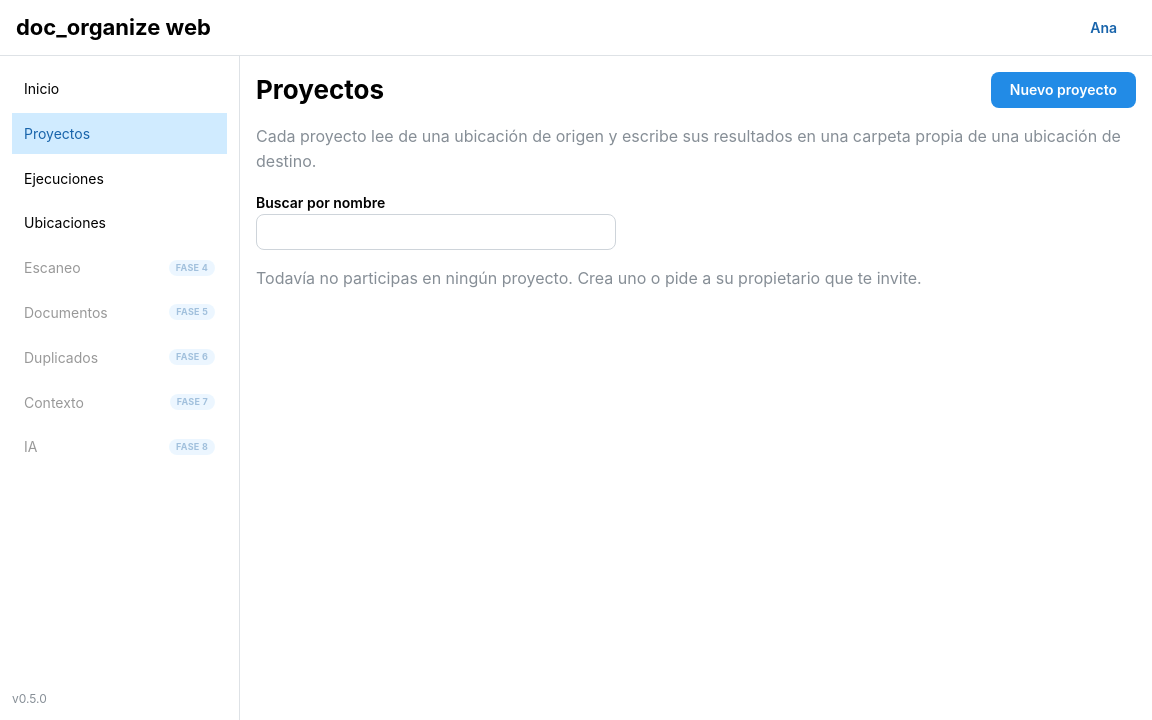
Scenario: ProjectsPage › no deja crear sin carpetas de origen
Click the button "Nuevo proyecto" at (1063, 90), box [991, 72, 1136, 108]
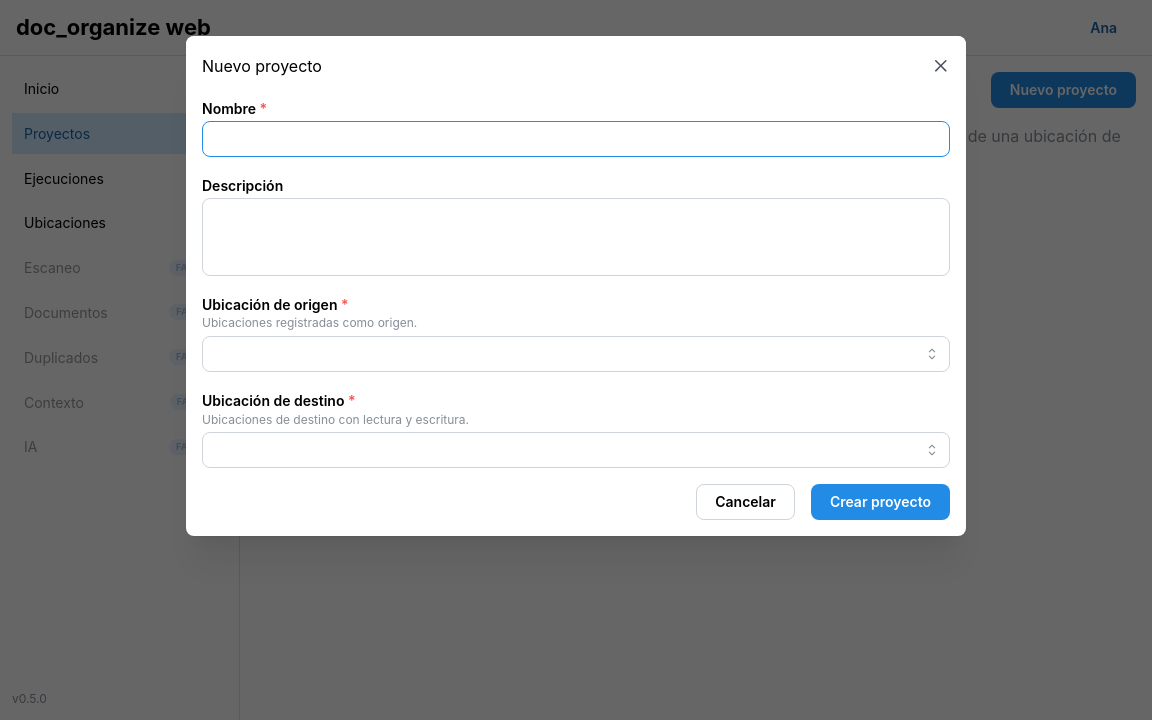
Type "X" into the field labelled "Nombre *" at (576, 139), box [202, 121, 950, 157]
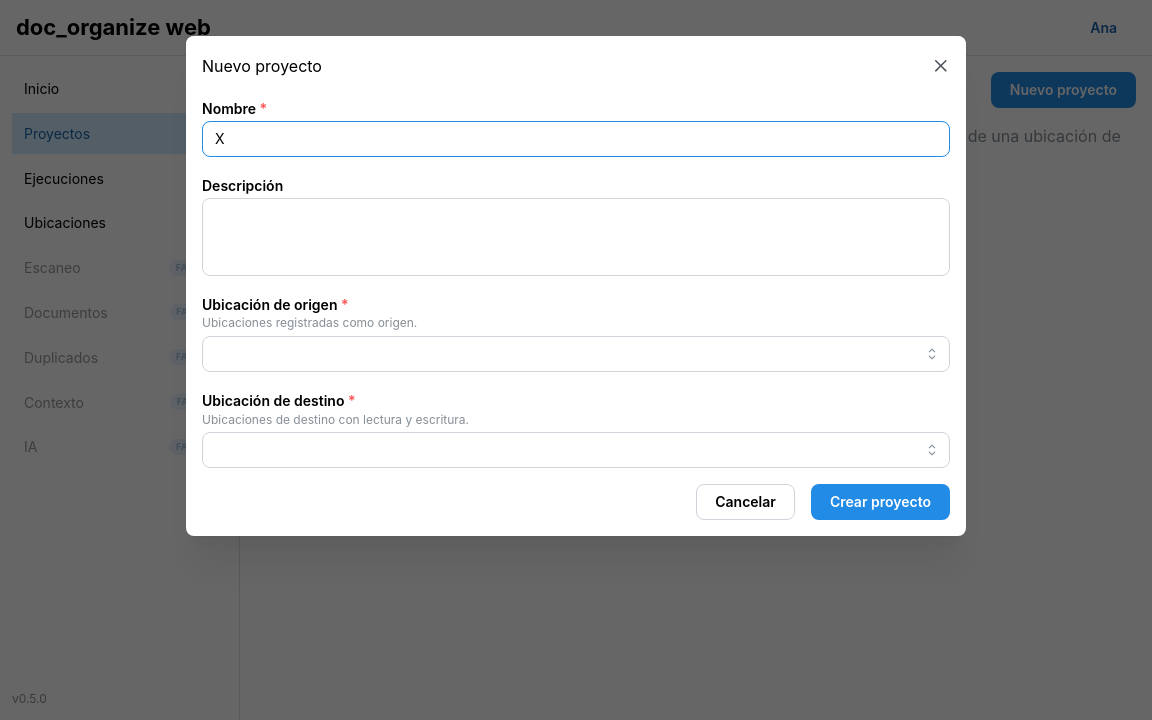
Click the dropdown labelled "Ubicación de origen *" at (576, 354), box [202, 336, 950, 372]
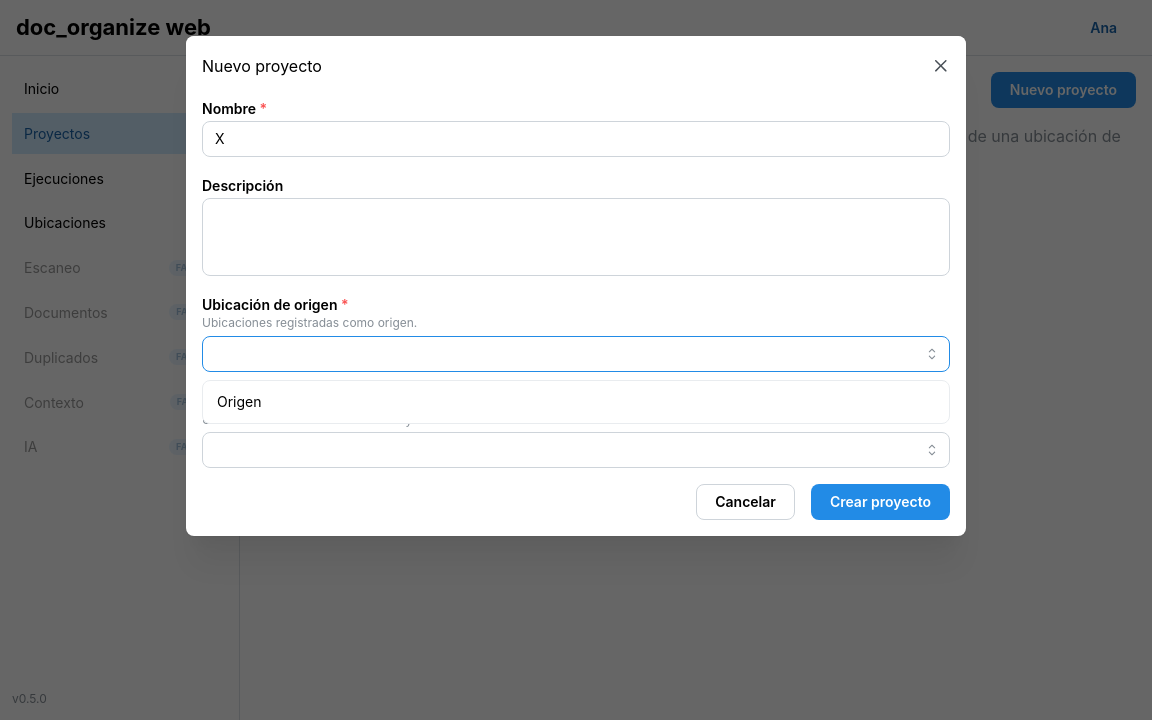
Click the option "Origen" at (239, 401), box [217, 393, 262, 410]
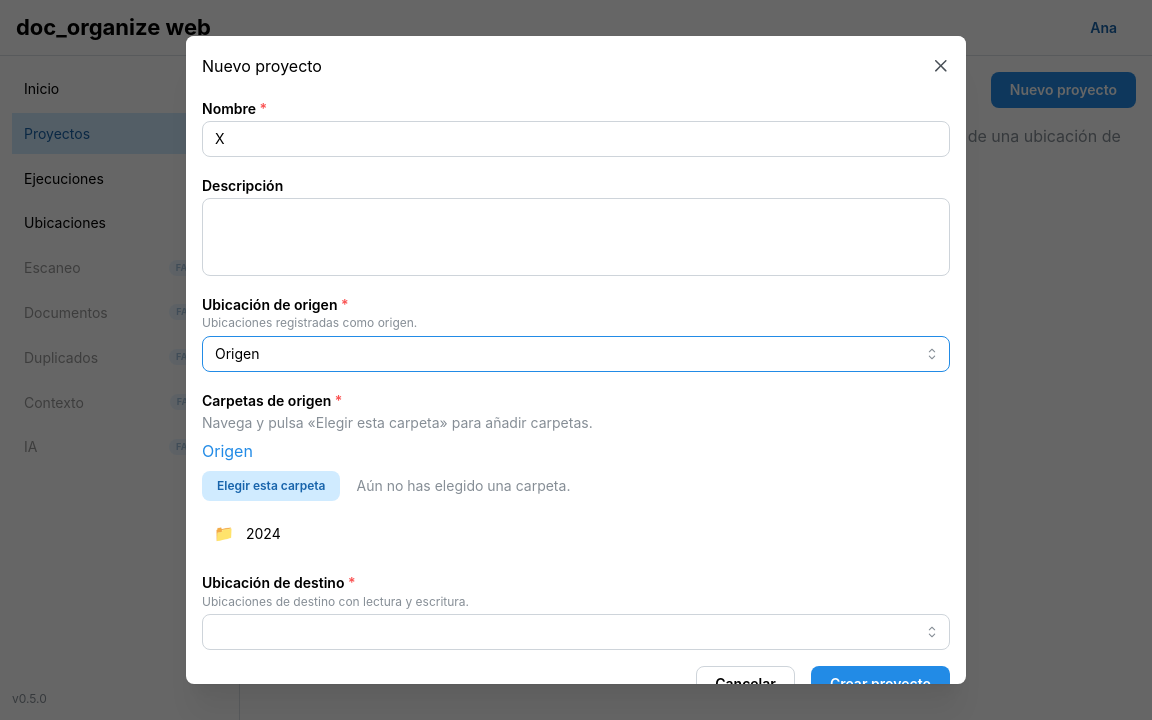
Click the button "Crear proyecto" at (880, 684), box [811, 666, 950, 702]
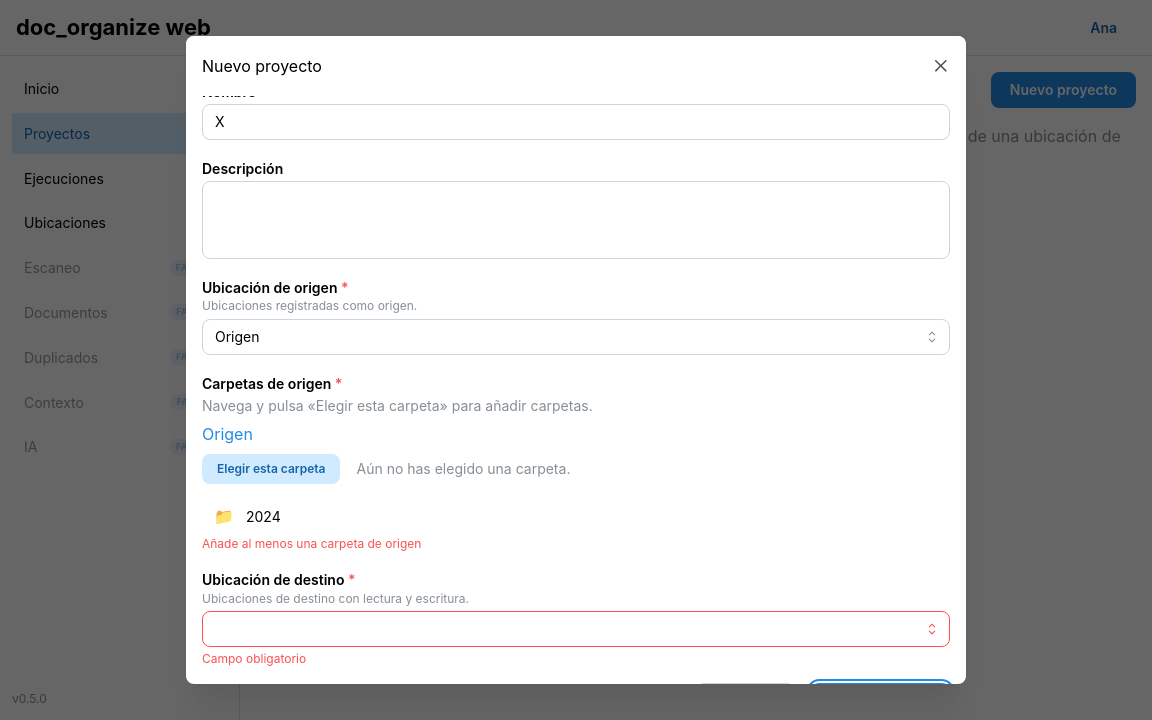
Expected: the text "Añade al menos una carpeta de origen" is shown, [202, 536, 421, 551]
